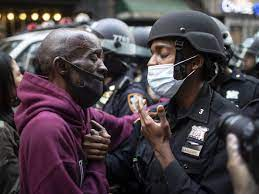with_incorrect_mask: (146, 45, 182, 89), (72, 49, 106, 95)
